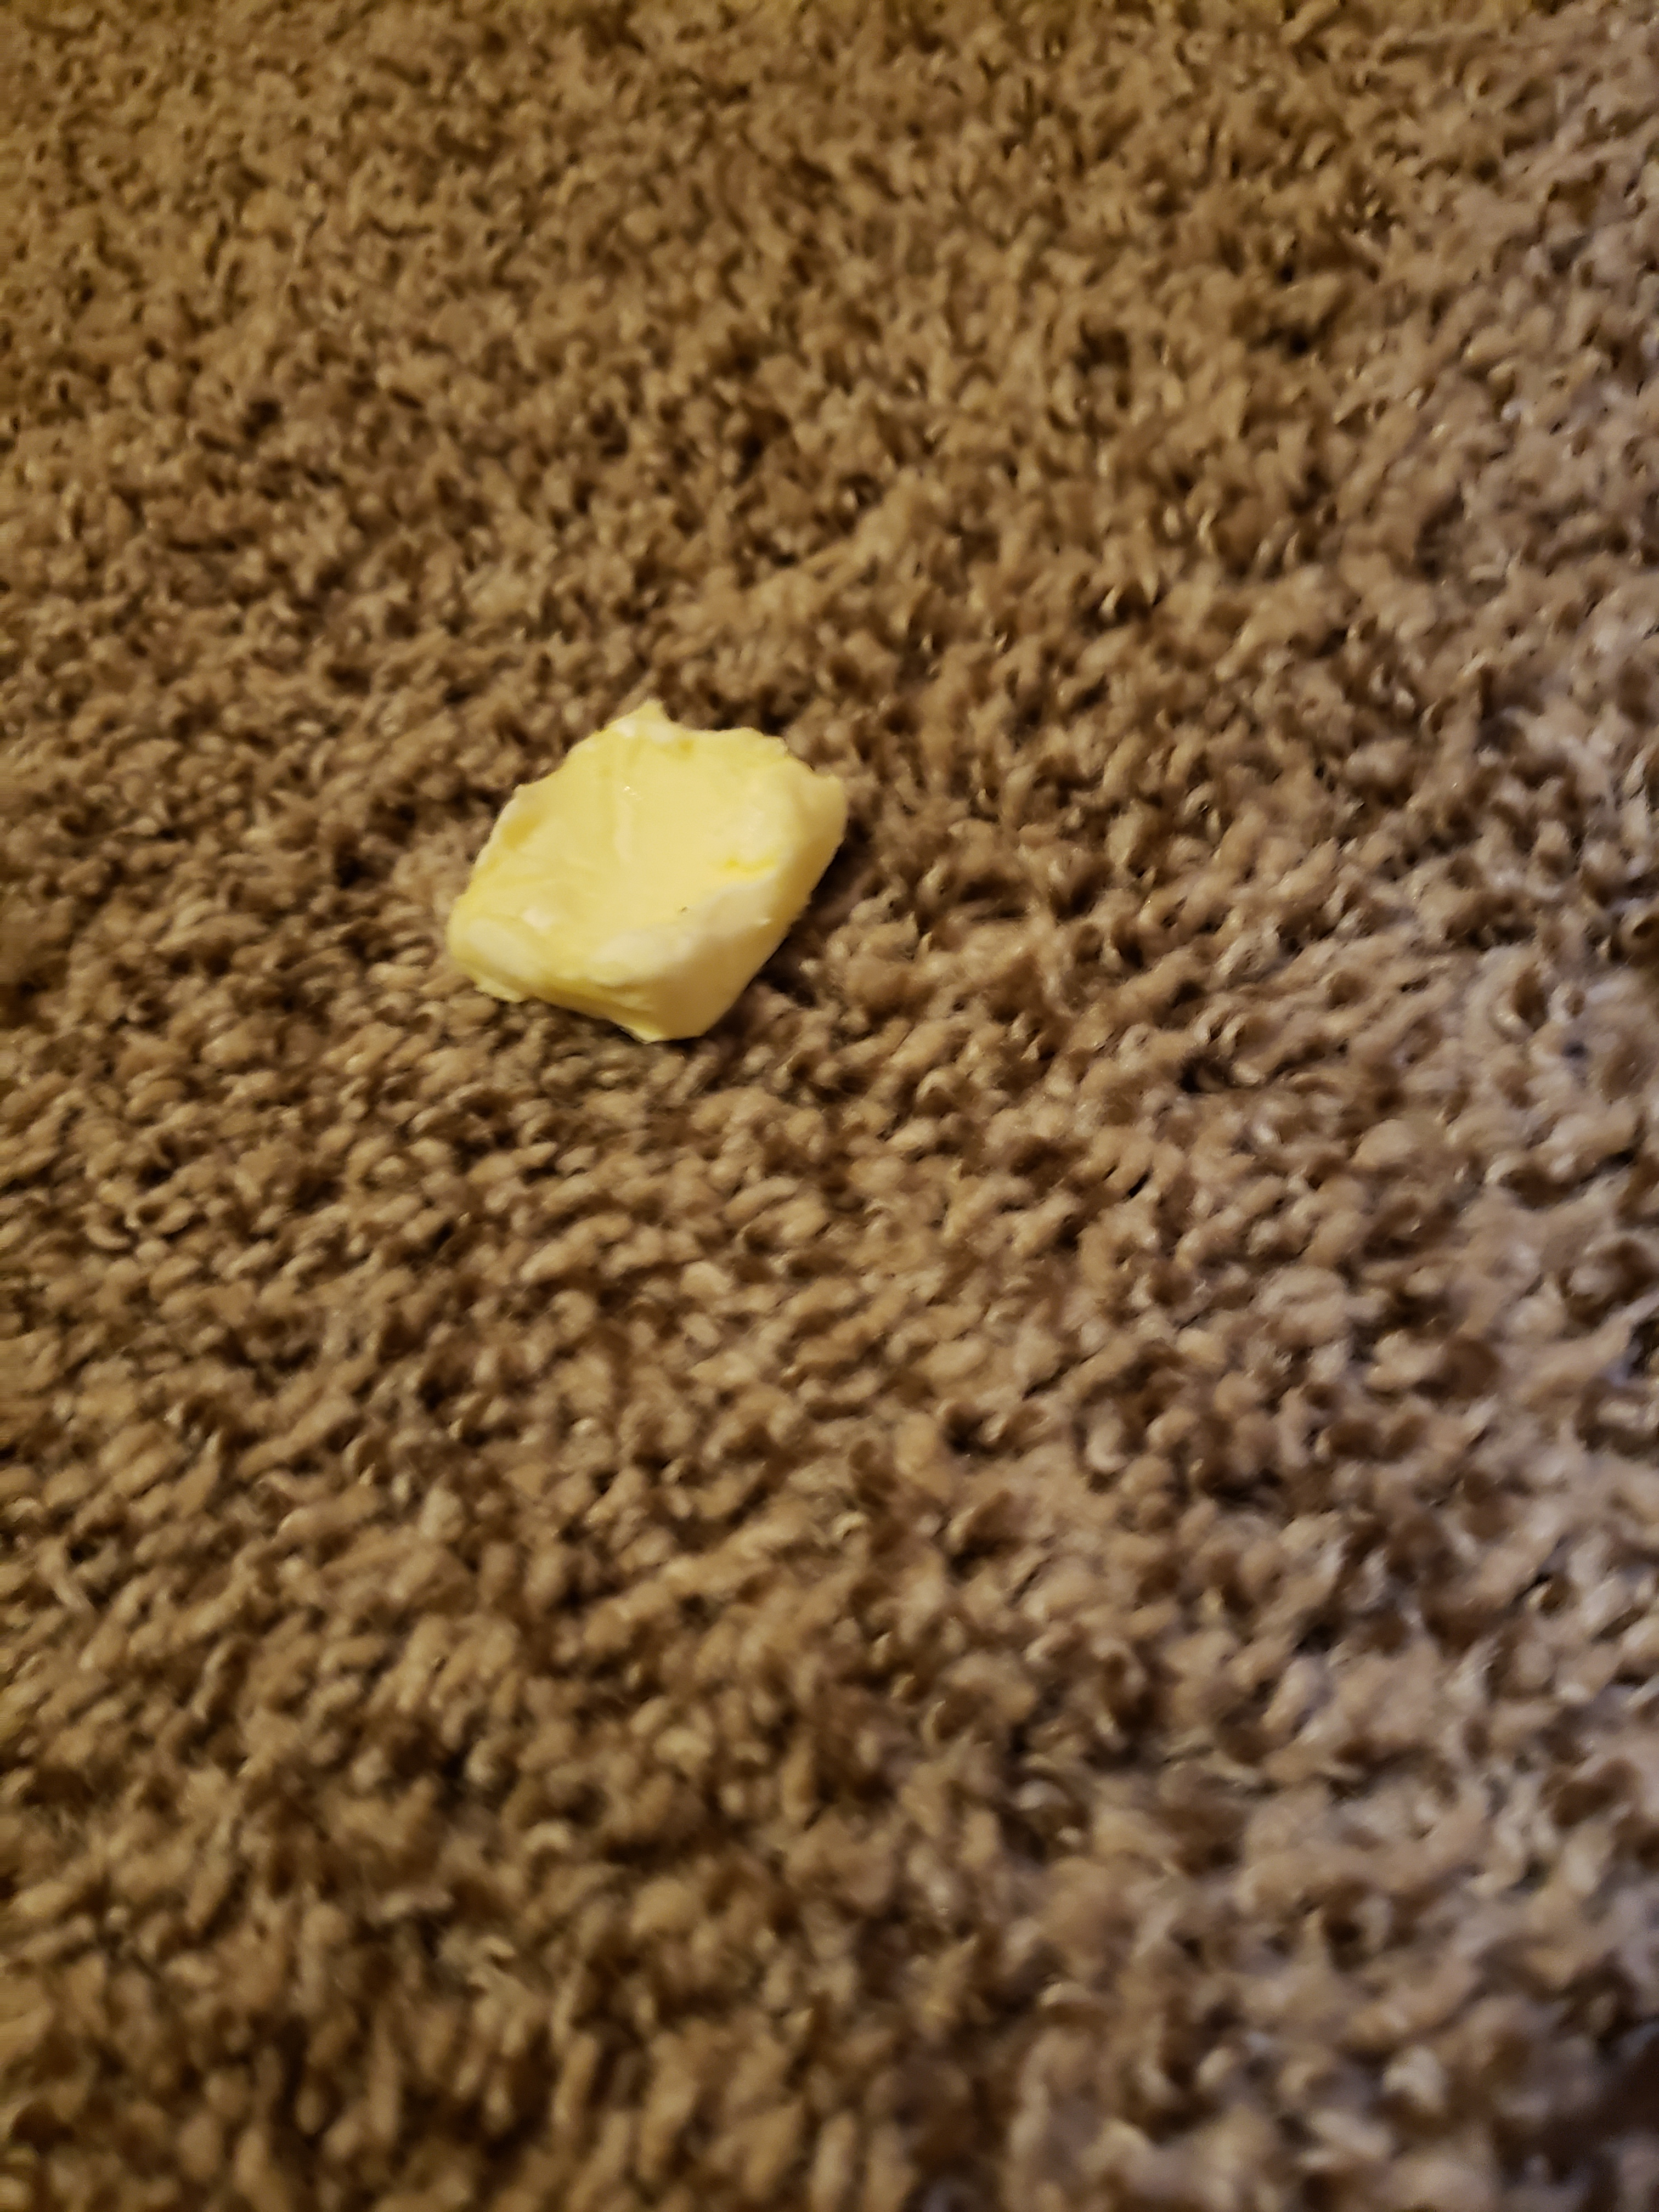Butter: (453, 702, 852, 1043)
